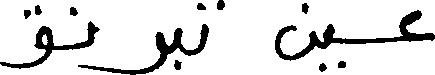X: (0, 0, 49, 73), (95, 22, 163, 74), (275, 0, 314, 65), (401, 5, 434, 46), (324, 19, 331, 74), (88, 16, 93, 74), (200, 0, 205, 56), (176, 23, 180, 74)
